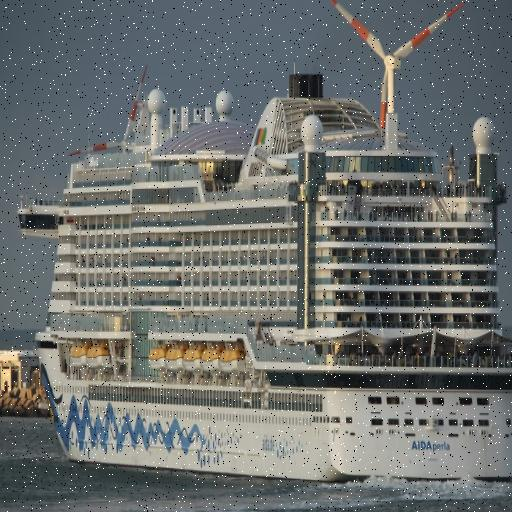cruises: (12, 73, 512, 500)
